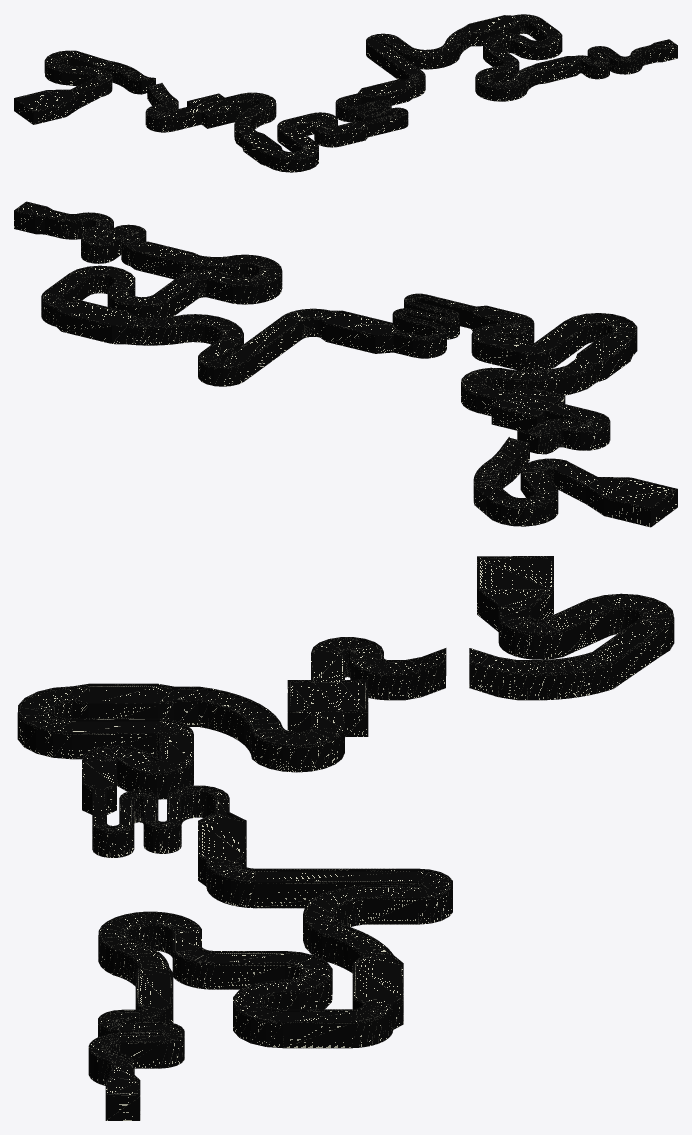
Rendered from UorO.fbx.
The picture shows the model from 3 angles, top to bottom: view 1: azimuth 30°, elevation 25°; view 2: azimuth 150°, elevation 25°; view 3: azimuth 270°, elevation 25°; orthographic projection. The views are drawn at different scales.
Parts seen in each view (by area): view 1: Plane; view 2: Plane; view 3: Plane.
Boxes of the visible parts, left/top/right/bottom form: Plane: left=14, top=14, right=677, bottom=172; Plane: left=14, top=201, right=677, bottom=527; Plane: left=17, top=556, right=674, bottom=1120.
Size of the model in its own units: 1509 by 50.32 by 777.
